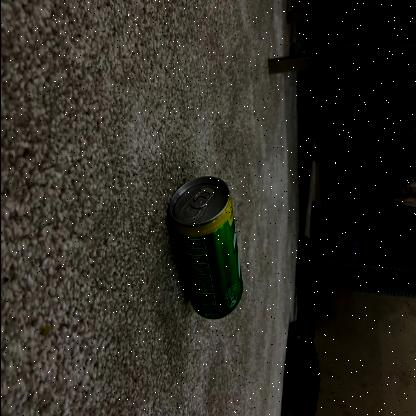Can: (164, 174, 244, 320)
